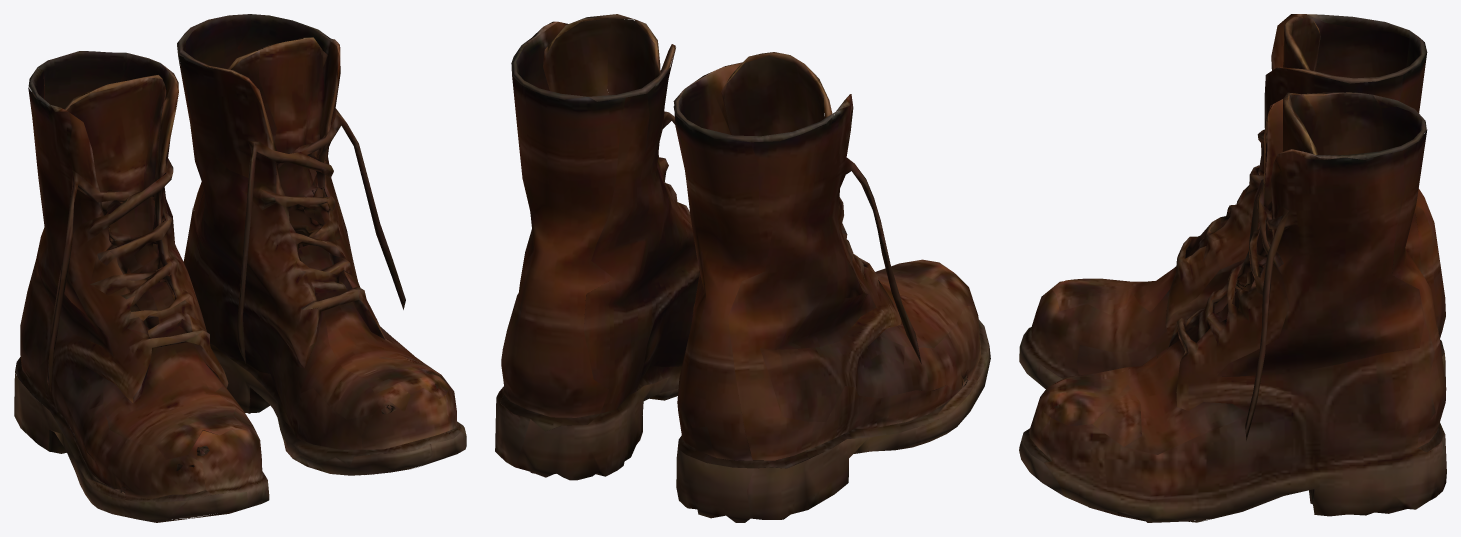
File: botas.glb
The picture shows the model from 3 angles, left to right: view 1: azimuth 30°, elevation 25°; view 2: azimuth 150°, elevation 25°; view 3: azimuth 270°, elevation 25°; orthographic projection. The views are drawn at different scales.
Visible parts, largest first — view 1: geometry_0; view 2: geometry_0; view 3: geometry_0.
Part boxes in pixels (bbox=[...]): geometry_0: bbox=[14, 14, 466, 522]; geometry_0: bbox=[495, 14, 990, 522]; geometry_0: bbox=[1019, 14, 1446, 522].
Bounding box in the file's own units: 0.3 × 0.3 × 0.3.
1 material, 1 textured.
